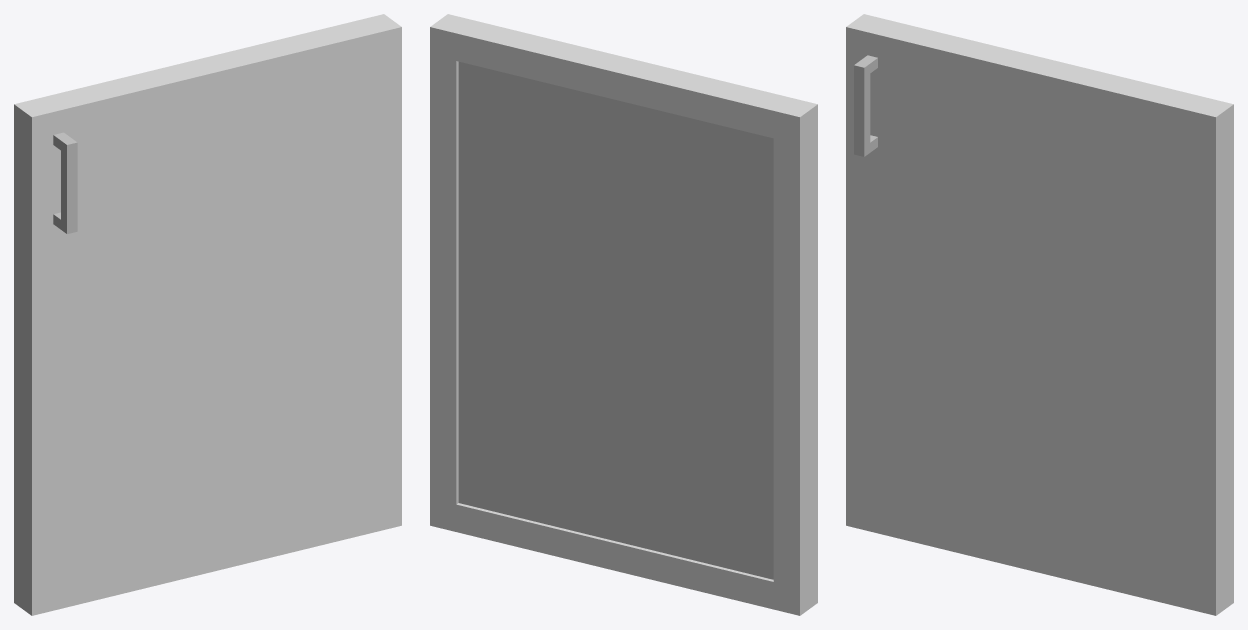
File: Refrigerator1_C1_03.fbx
3 renders of one model, left to right at view 1: azimuth 30°, elevation 25°; view 2: azimuth 150°, elevation 25°; view 3: azimuth 330°, elevation 25°, orthographic.
Visible parts, largest first — view 1: Refrigerator1_C1_03; view 2: Refrigerator1_C1_03; view 3: Refrigerator1_C1_03.
Part boxes in pixels (bbox=[...]): Refrigerator1_C1_03: bbox=[14, 14, 401, 615]; Refrigerator1_C1_03: bbox=[430, 14, 817, 615]; Refrigerator1_C1_03: bbox=[846, 14, 1233, 615].
Bounding box in the file's own units: 60 × 77.27 × 8.84.
